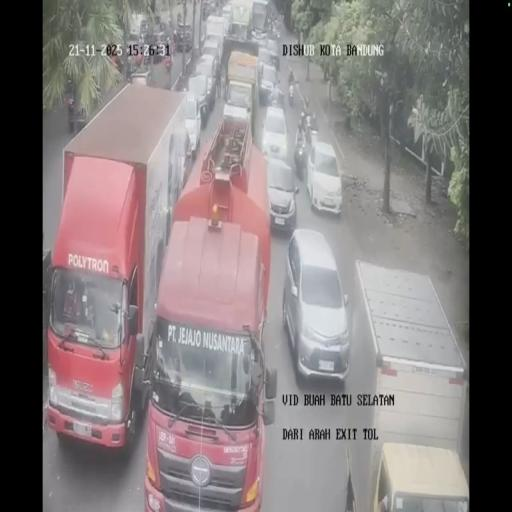3: (47, 82, 194, 452), (346, 264, 468, 512), (250, 0, 269, 40)
car: (284, 230, 350, 384), (306, 140, 342, 216), (264, 154, 298, 234), (261, 104, 289, 164), (186, 72, 213, 130), (221, 101, 250, 144), (257, 60, 279, 106), (201, 36, 222, 72), (129, 12, 147, 42), (264, 35, 280, 67), (158, 18, 174, 48), (220, 3, 232, 34), (202, 0, 217, 18)
truck: (288, 78, 295, 105)
